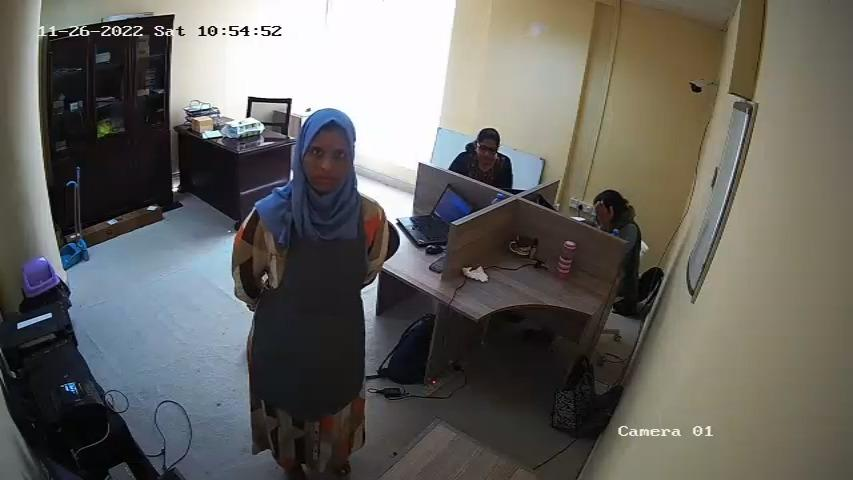apron: (244, 211, 375, 421)
